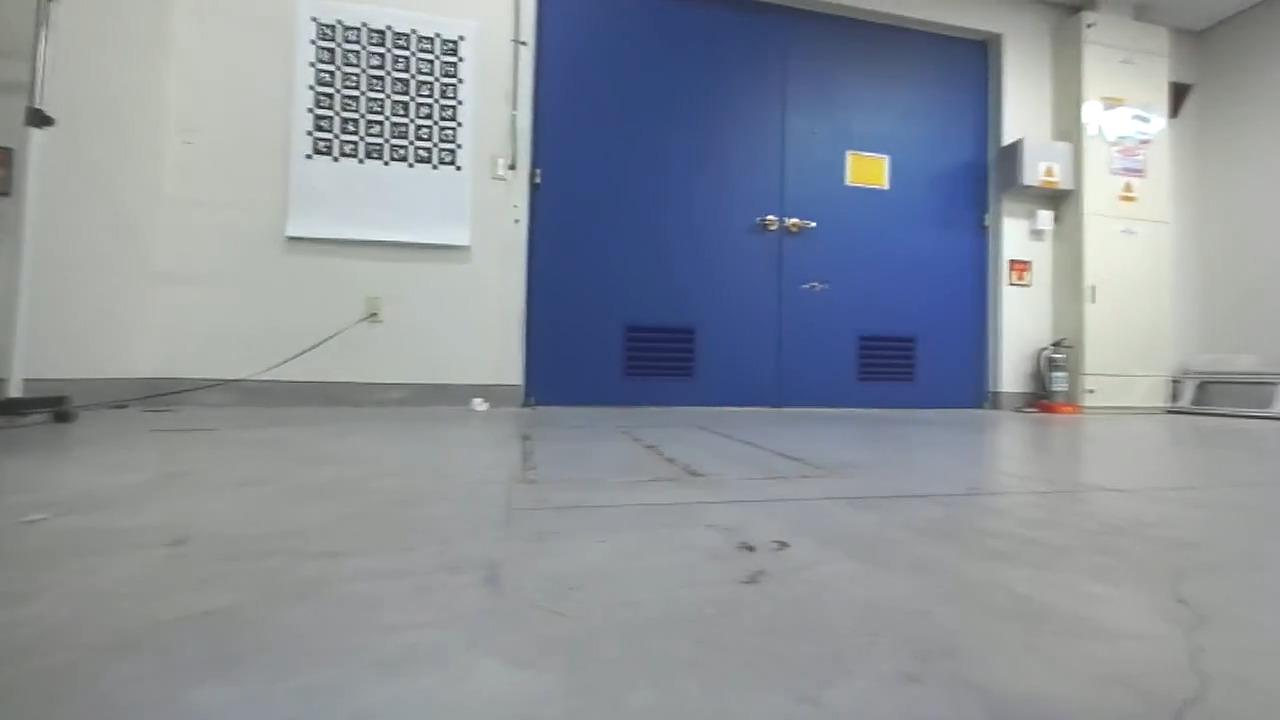crazyflie: (788, 277, 838, 296)
